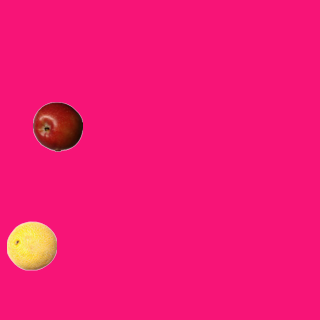Apple Braeburn: (32, 101, 82, 151)
Cantaloupe 1: (6, 220, 56, 270)
